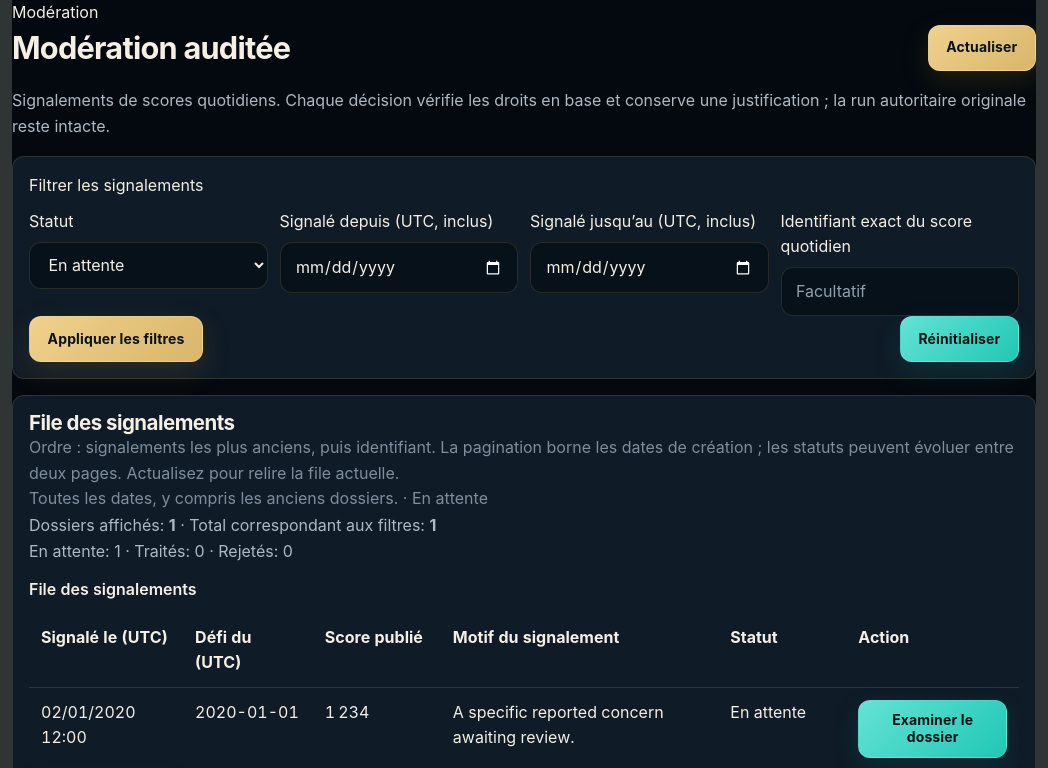
Test: moderation accessible action preparation › allows dismissal of an open report for an already invalidated score and disables only invalidation
Click the button "Examiner le dossier".
click(933, 729)  # box [858, 700, 1007, 758]
(page scrolled)
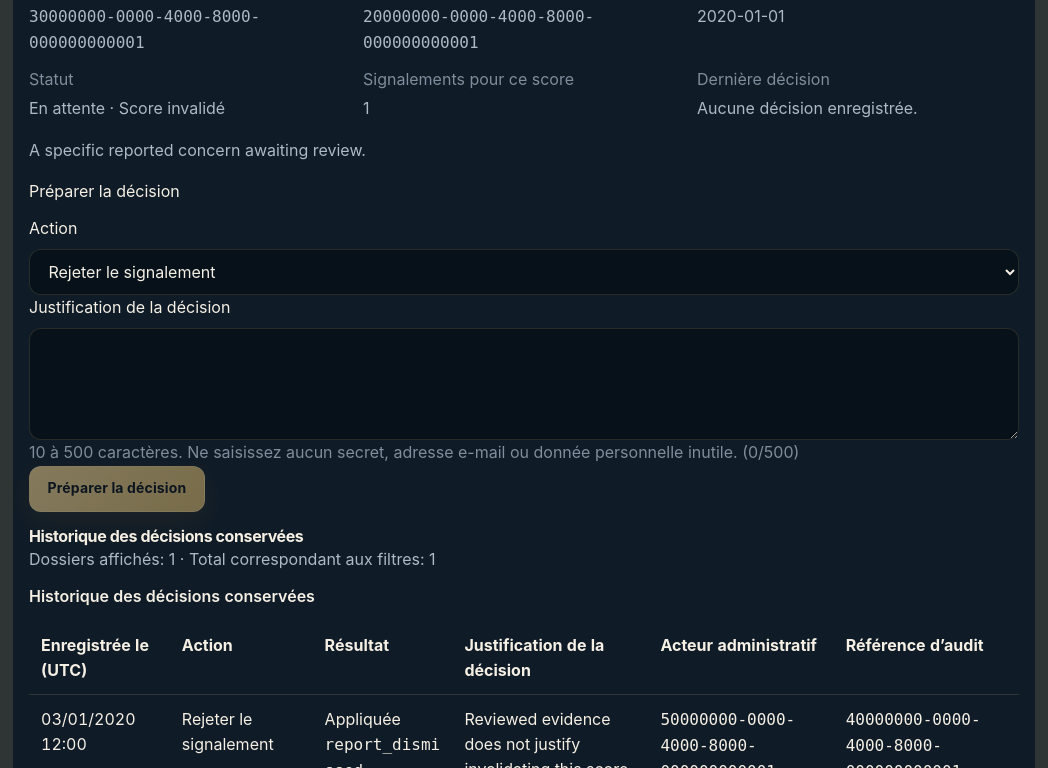
Expected: the text box labelled "Justification de la décision" is enabled, [29, 328, 1019, 440]
